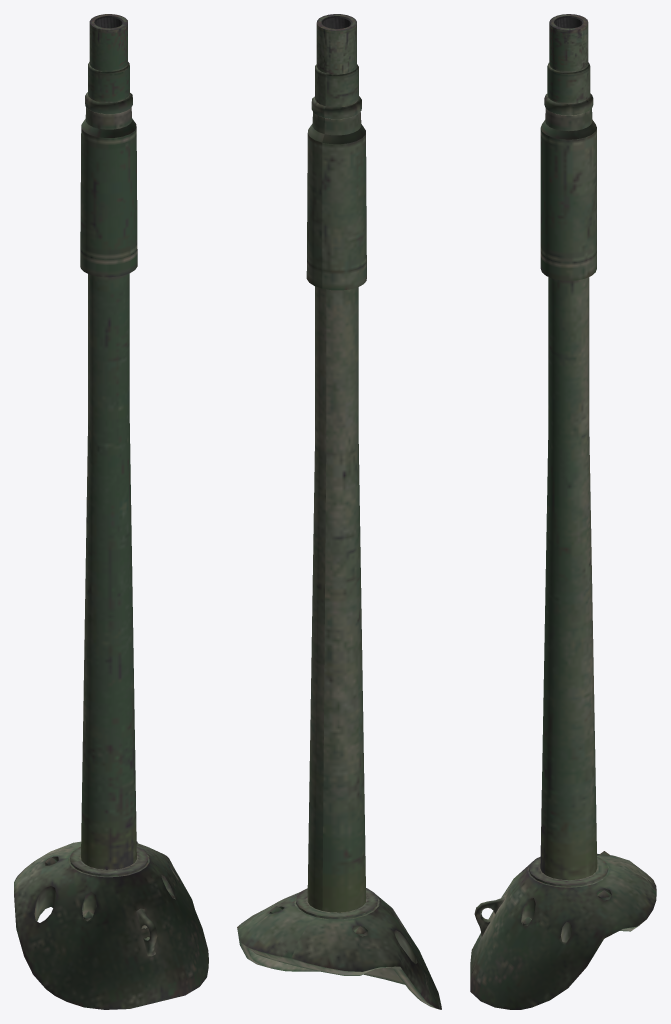
Rendered from Gun_01.glb.
3 renders of one model, left to right at view 1: azimuth 30°, elevation 25°; view 2: azimuth 150°, elevation 25°; view 3: azimuth 270°, elevation 25°, orthographic. The views are drawn at different scales.
Visible parts, largest first — view 1: set_0_group_0; view 2: set_0_group_0; view 3: set_0_group_0.
Part boxes in pixels (box(x1,y1,x2,y2)): set_0_group_0: box(14, 14, 208, 1009); set_0_group_0: box(237, 14, 441, 1009); set_0_group_0: box(470, 14, 656, 1009).
Size of the model in its own units: 0.6272 by 3.3 by 0.5838.
Materials: 1 (1 with a texture image).
